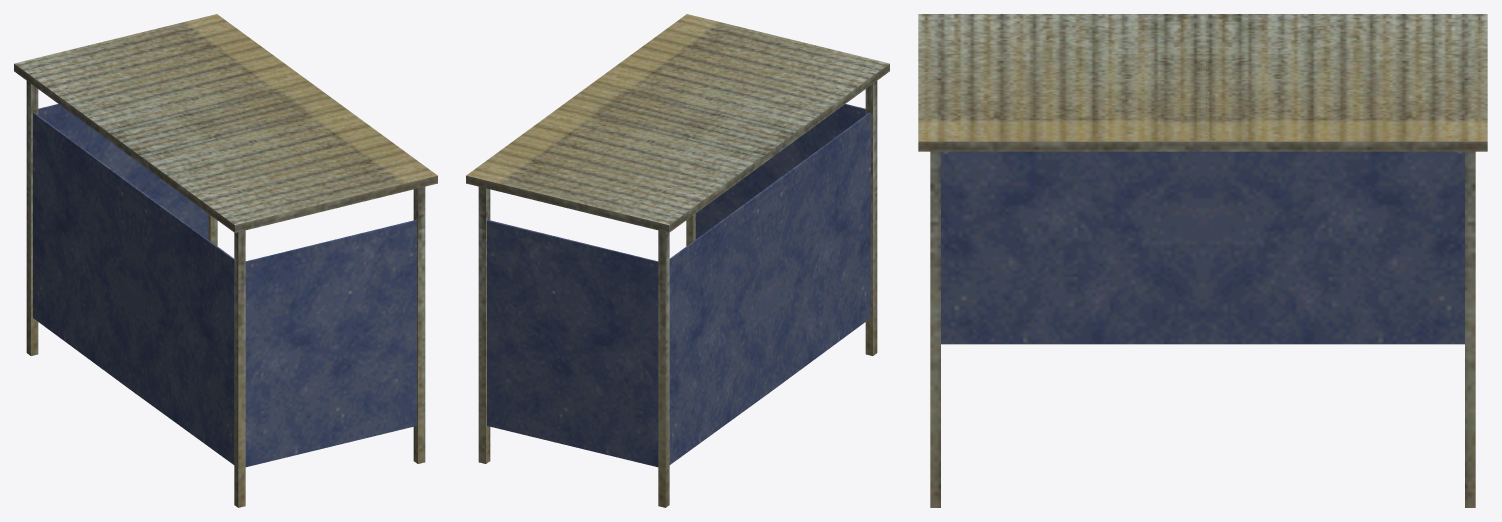
Rendered from Urban_Busstop_Model.fbx.
The picture shows the model from 3 angles, left to right: view 1: azimuth 30°, elevation 25°; view 2: azimuth 150°, elevation 25°; view 3: azimuth 270°, elevation 25°; orthographic projection. The views are drawn at different scales.
Visible parts, largest first — view 1: Urban_Busstop_Mesh; view 2: Urban_Busstop_Mesh; view 3: Urban_Busstop_Mesh.
Boxes of the visible parts, left/top/right/bottom form: Urban_Busstop_Mesh: left=14, top=14, right=437, bottom=507; Urban_Busstop_Mesh: left=466, top=14, right=889, bottom=507; Urban_Busstop_Mesh: left=918, top=14, right=1487, bottom=507.
Size of the model in its own units: 2.26 by 3.07 by 4.26.
